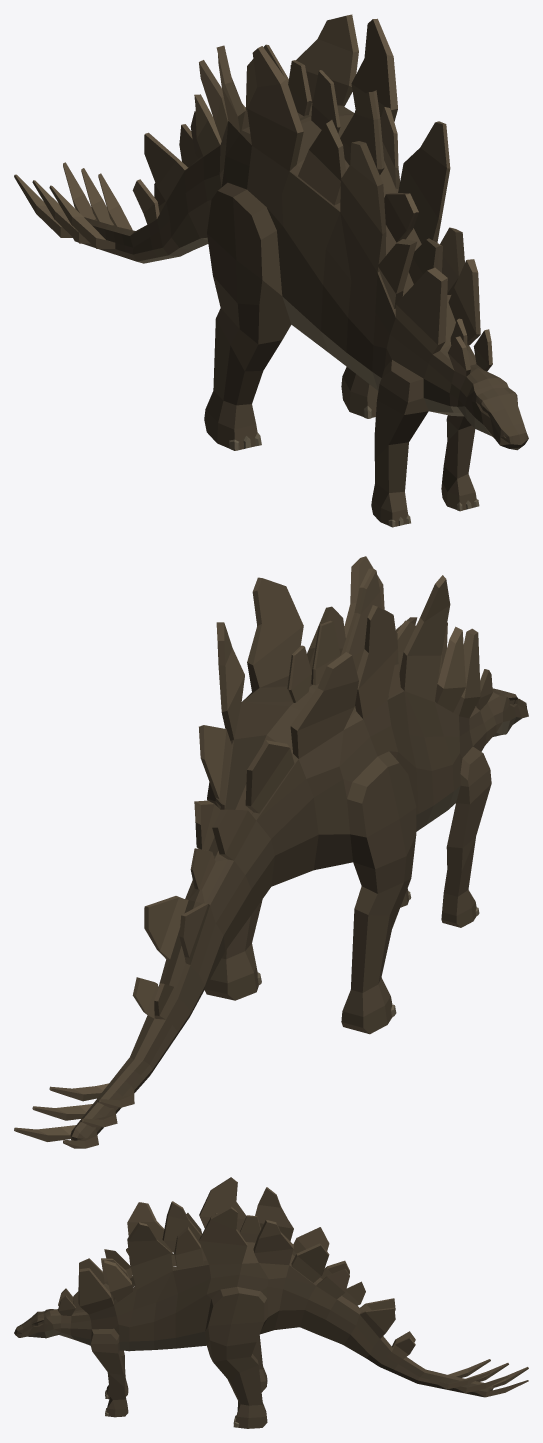
File: earth-timeline.glb
The picture shows the model from 3 angles, top to bottom: view 1: azimuth 30°, elevation 25°; view 2: azimuth 150°, elevation 25°; view 3: azimuth 270°, elevation 25°; orthographic projection. The views are drawn at different scales.
Parts seen in each view (by area): view 1: Stegosaurus; view 2: Stegosaurus; view 3: Stegosaurus.
Boxes of the visible parts, left/top/right/bottom form: Stegosaurus: left=14, top=14, right=528, bottom=527; Stegosaurus: left=14, top=556, right=528, bottom=1148; Stegosaurus: left=14, top=1177, right=528, bottom=1428.
Size of the model in its own units: 4.71 by 10.62 by 23.05.
